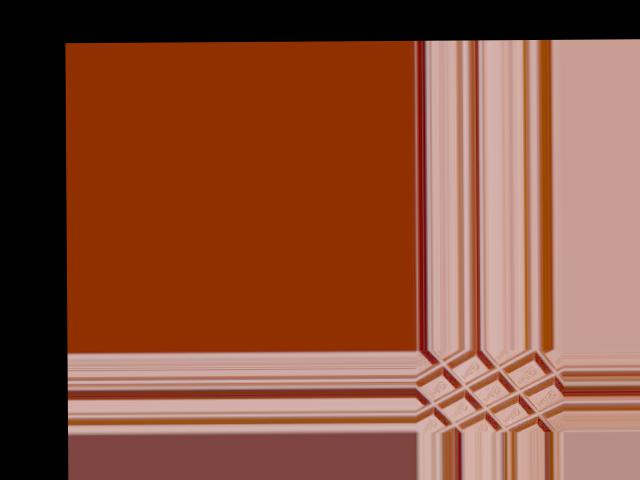chocolate: (419, 348, 563, 430)
